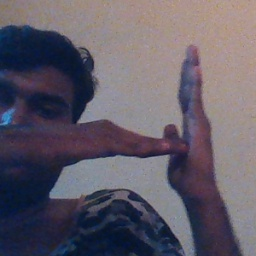Z: (109, 43, 224, 197)
